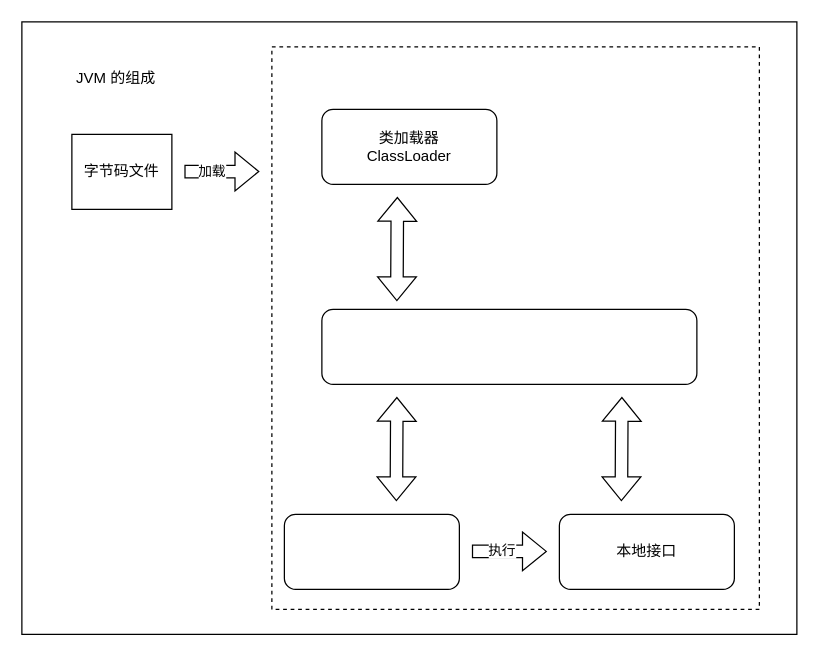
The diagram is 819 pixels wide and 656 high, and some of its shapes have lost their labels. Each missing label, with the centre of its shape:
"执行引擎 （即时编译器、解释器、垃圾回收器等）" belongs at (371,551).
"运行时数据区（JVM 管理的内存）" belongs at (509,346).
